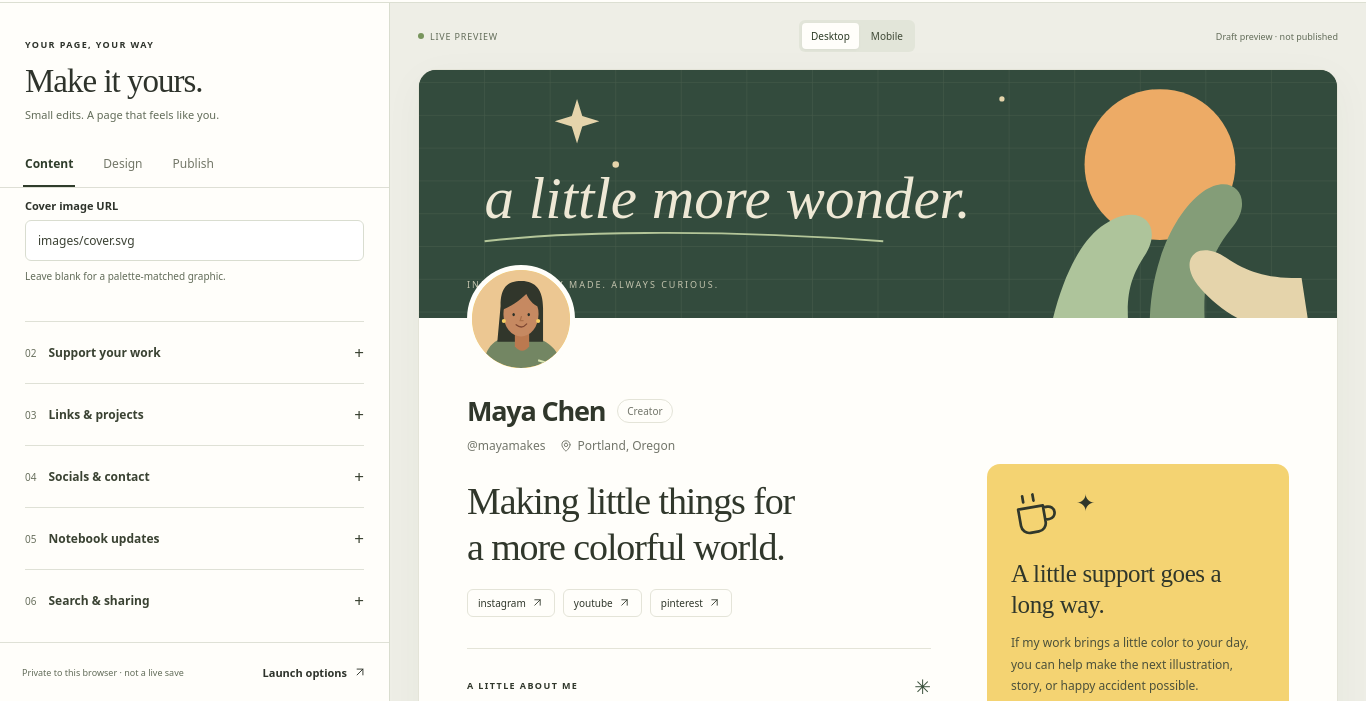
it: BioPage DOM interactions (not browser layout tests) › adds, reorders and removes links through labeled controls
The image size is (1366, 701).
Later steps or results of the test are not shown.
(page scrolled)
Check: the heading "Maya Chen" is shown, box [467,392,605,429]
Click the text "Links & projects" at (96, 415), box [48,406,144,423]
(page scrolled)
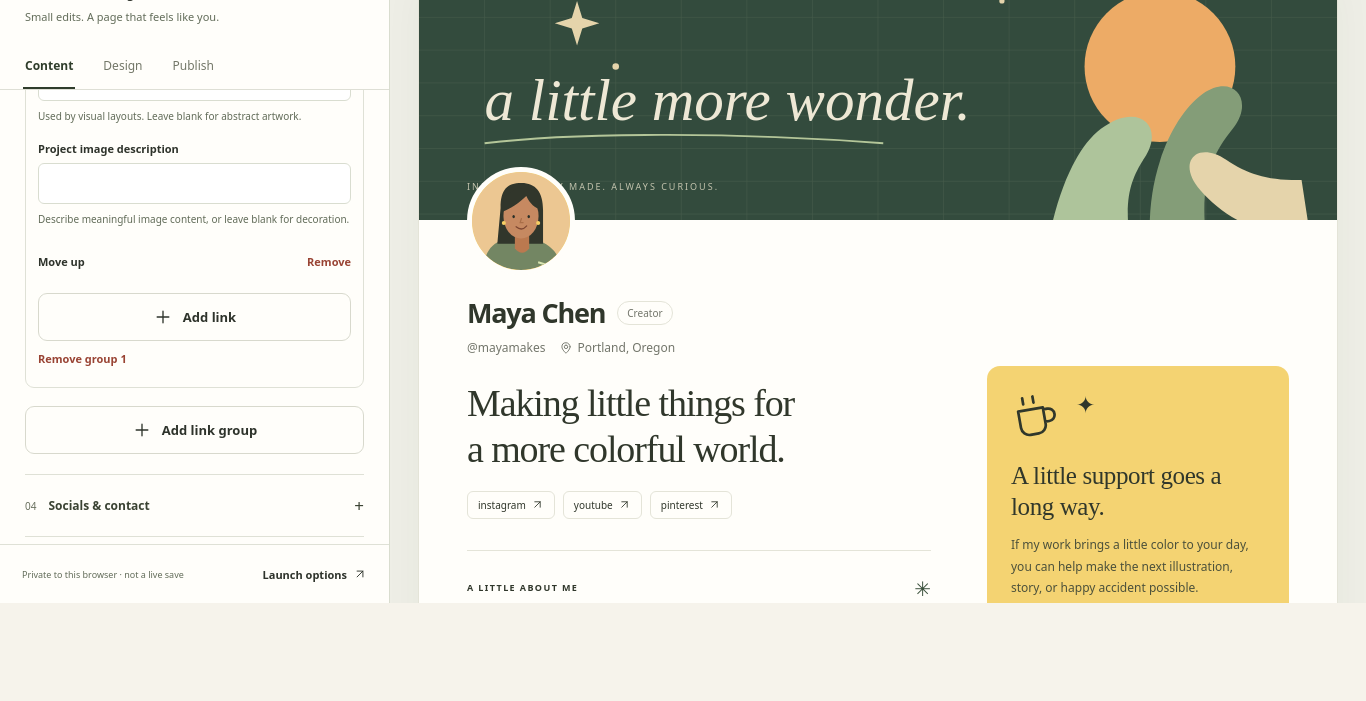
Click the button "Add link" at (194, 317), box [38,293,351,341]
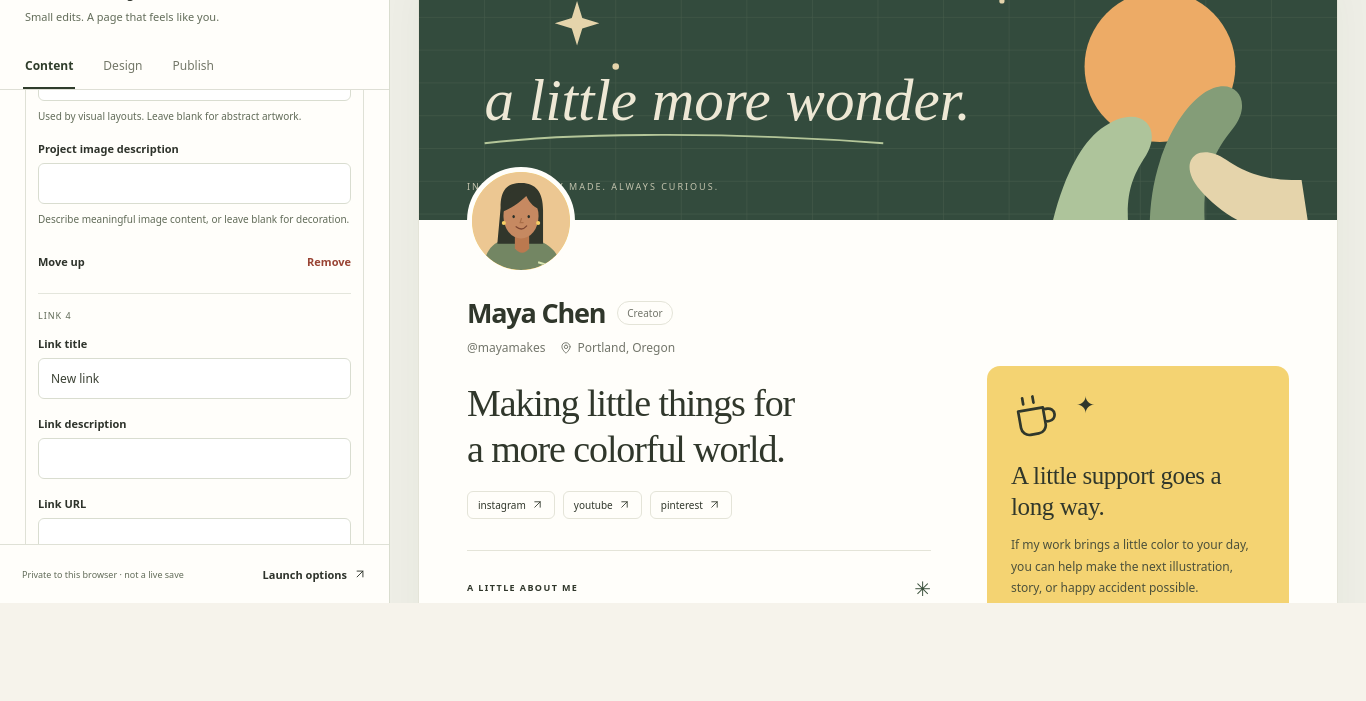
Check: the number of fields labelled "Link title" is 4
